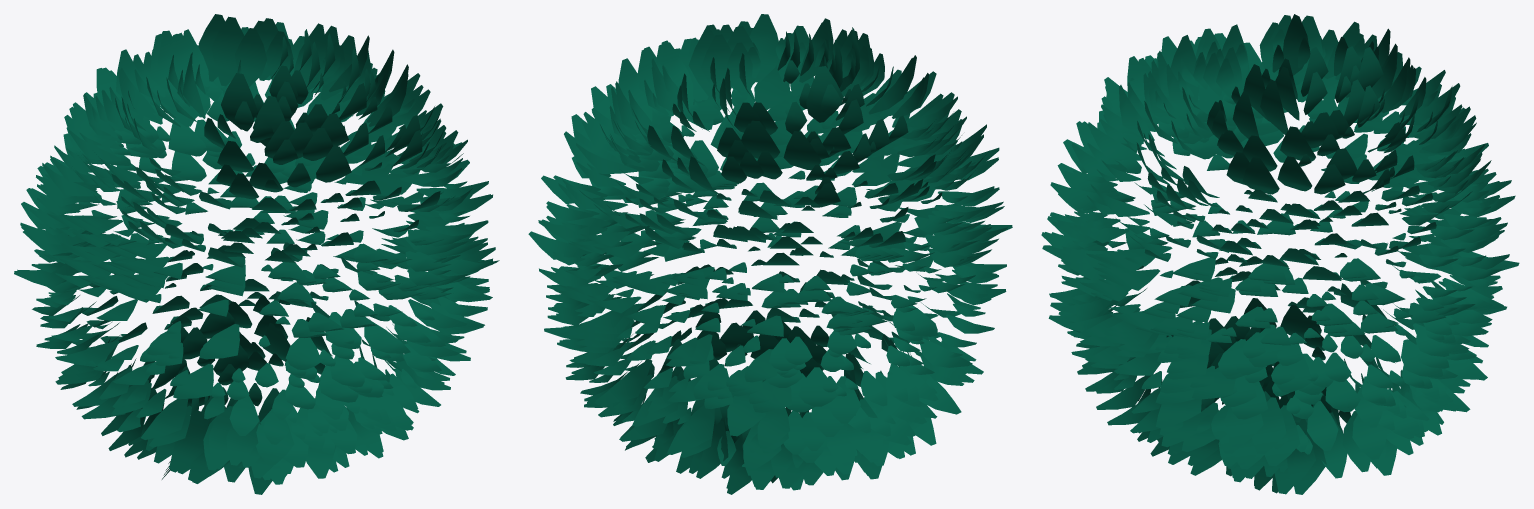
File: greenball.fbx
3 renders of one model, left to right at view 1: azimuth 30°, elevation 25°; view 2: azimuth 150°, elevation 25°; view 3: azimuth 270°, elevation 25°, orthographic.
Visible parts, largest first — view 1: leaf.966; view 2: leaf.966; view 3: leaf.966.
Part boxes in pixels (left/top/right/bottom): leaf.966: left=14, top=14, right=499, bottom=494; leaf.966: left=528, top=14, right=1012, bottom=494; leaf.966: left=1041, top=14, right=1519, bottom=494.
Size of the model in its own units: 192 by 189 by 193.
